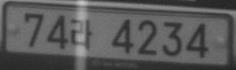2: (138, 19, 157, 55)
3: (161, 20, 182, 56)
4: (110, 18, 134, 54), (185, 22, 208, 58), (46, 14, 68, 49)
7: (24, 12, 44, 47)
라: (70, 18, 92, 50)
